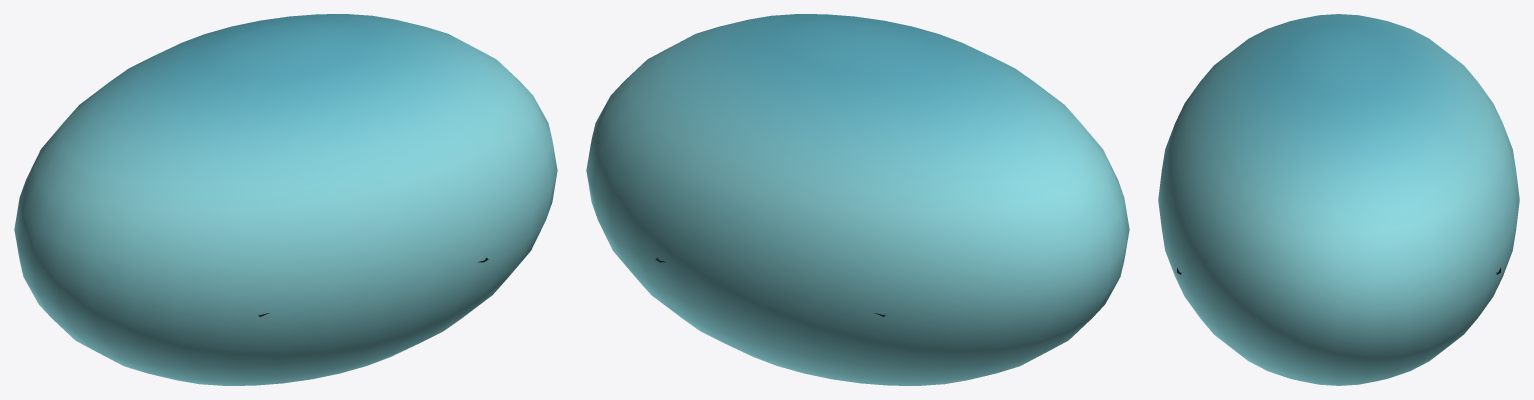
Rendered from stadium.glb.
3 views of the same model, side by side, from view 1: azimuth 30°, elevation 25°; view 2: azimuth 150°, elevation 25°; view 3: azimuth 270°, elevation 25° (orthographic). The views are drawn at different scales.
Visible parts, largest first — view 1: skySphere; view 2: skySphere; view 3: skySphere.
Boxes of the visible parts, x1,y1,x2,y2 form: skySphere: [14, 14, 557, 385]; skySphere: [586, 14, 1129, 385]; skySphere: [1158, 14, 1519, 385].
Bounding box in the file's own units: 261 × 158 × 175.
21 materials, 13 textured.
